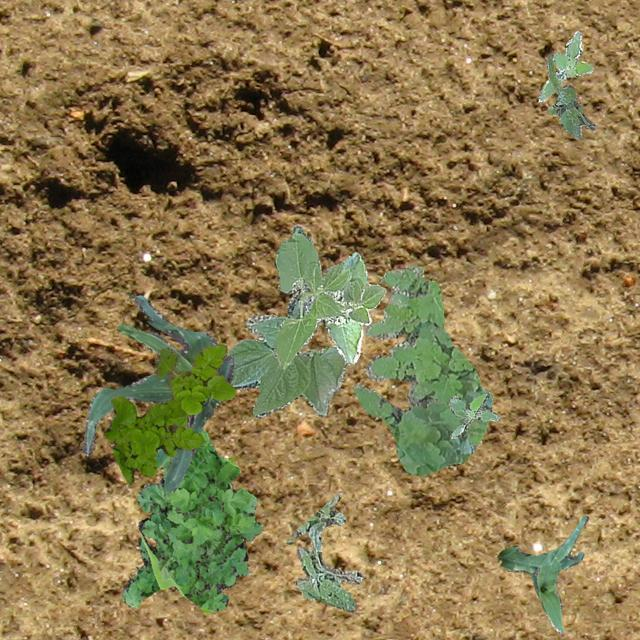crop: (82, 294, 234, 492), (274, 225, 384, 368), (226, 288, 348, 416), (496, 514, 588, 632), (152, 540, 178, 580)
weed: (354, 264, 492, 474), (120, 428, 262, 612), (103, 343, 234, 482), (286, 492, 362, 610), (546, 56, 596, 138), (538, 30, 592, 100), (448, 392, 498, 438)
